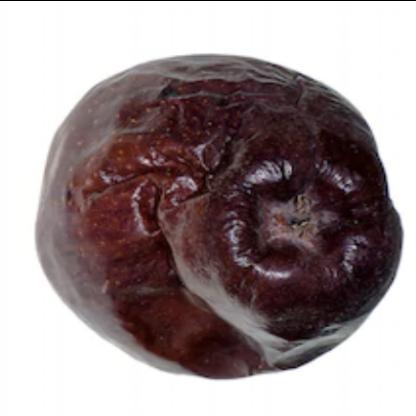Rotten Apple: (34, 54, 402, 377)
